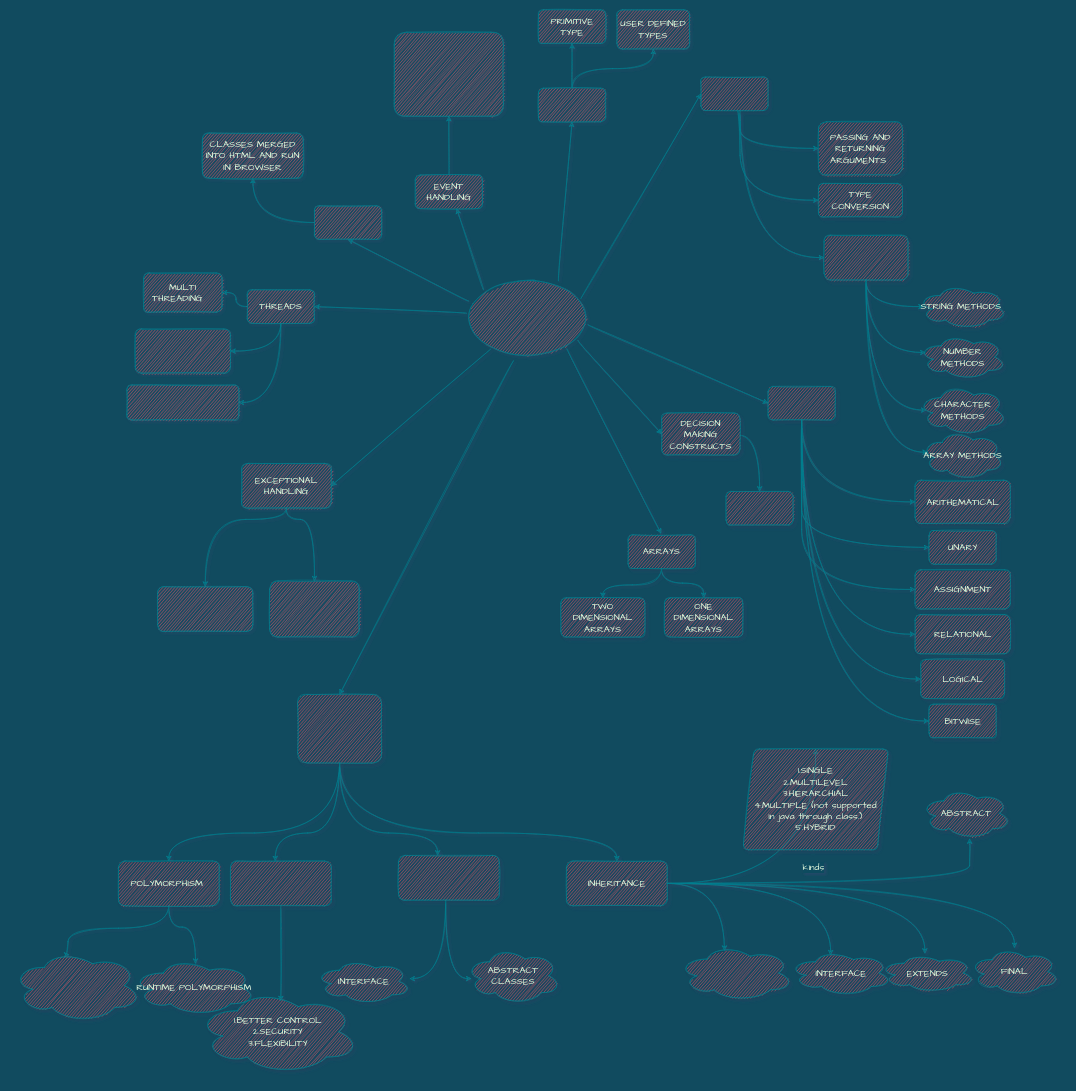
This 1076x1091 diagram has some shape labels left out. The shapes that lost their labels are listed below. From the top down, each one's centre as x and y in pixels, then its label:
point 448,74: USED TO CONTROL THE EVENTS AND DECIDES WHAT SHOULD HAPPEN IF EVENT OCCURS
point 734,94: METHODS
point 572,105: DATATYPES
point 348,222: JAVA APPLETS
point 866,258: BUILT-IN JAVA CLASS METHODS
point 527,317: JAVA
point 182,350: THREAD BASED MULTITASKING
point 182,402: SYNCHRONIZATION
point 802,404: OPERATORS
point 760,509: LOOPING
point 205,608: TO MAINTAIN THE FLOW OF APPLICATION
point 314,608: MECHANISM TO HANDLE THE RUNTIME ERRORS
point 340,729: OBJECT ORIENTED PROGRAMMING
point 281,884: ENCAPSULATION
point 449,878: ABSTRACTION
point 76,986: COMPILE TIME POLYMORPHISM
point 736,973: IMPLEMENTS
